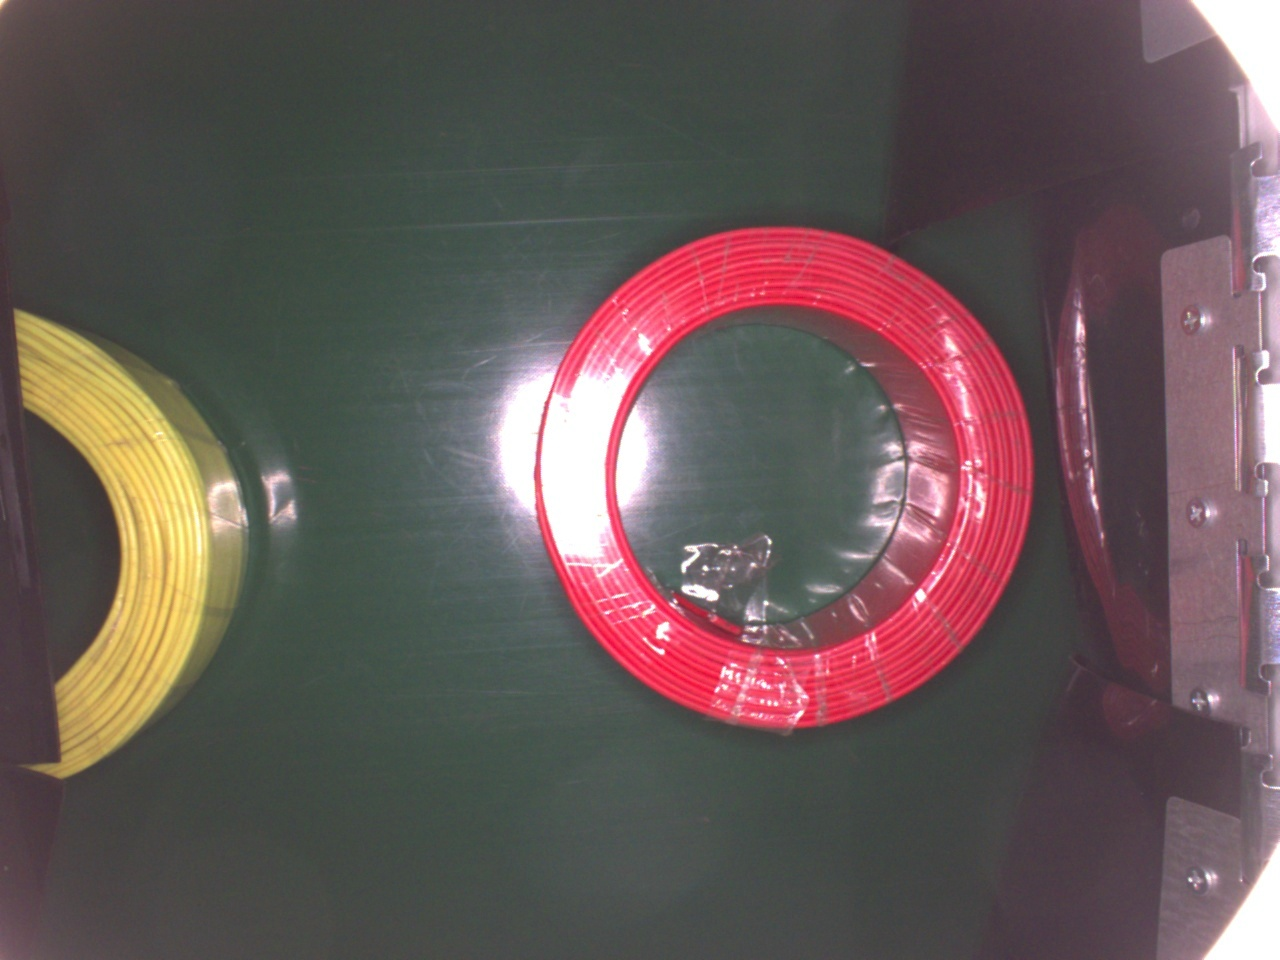red: (541, 225, 1044, 724)
yellow: (9, 310, 251, 786)
